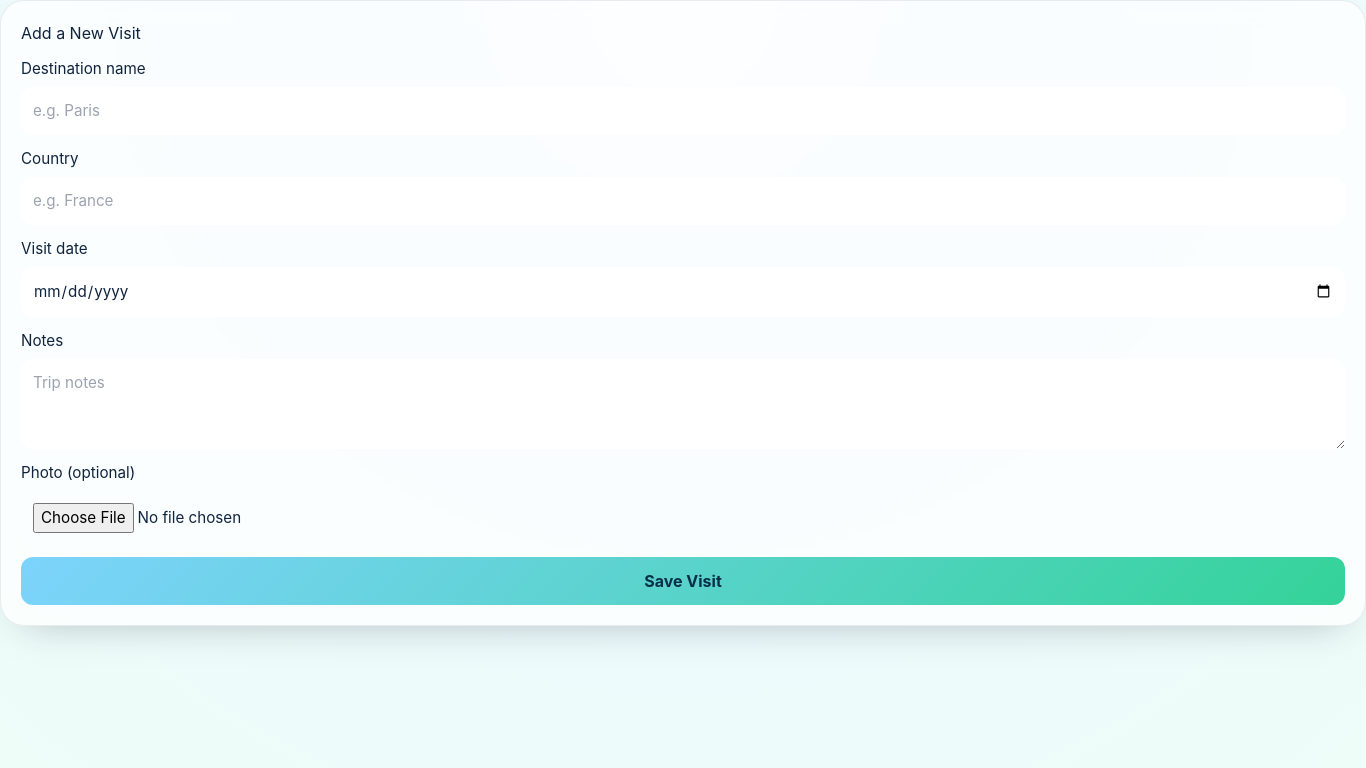
Scenario: AddVisitForm › announces required field validation without submitting
This screenshot has width=1366, height=768.
Click the button "Save Visit".
click(683, 581)  # box 21,557 -> 1345,605
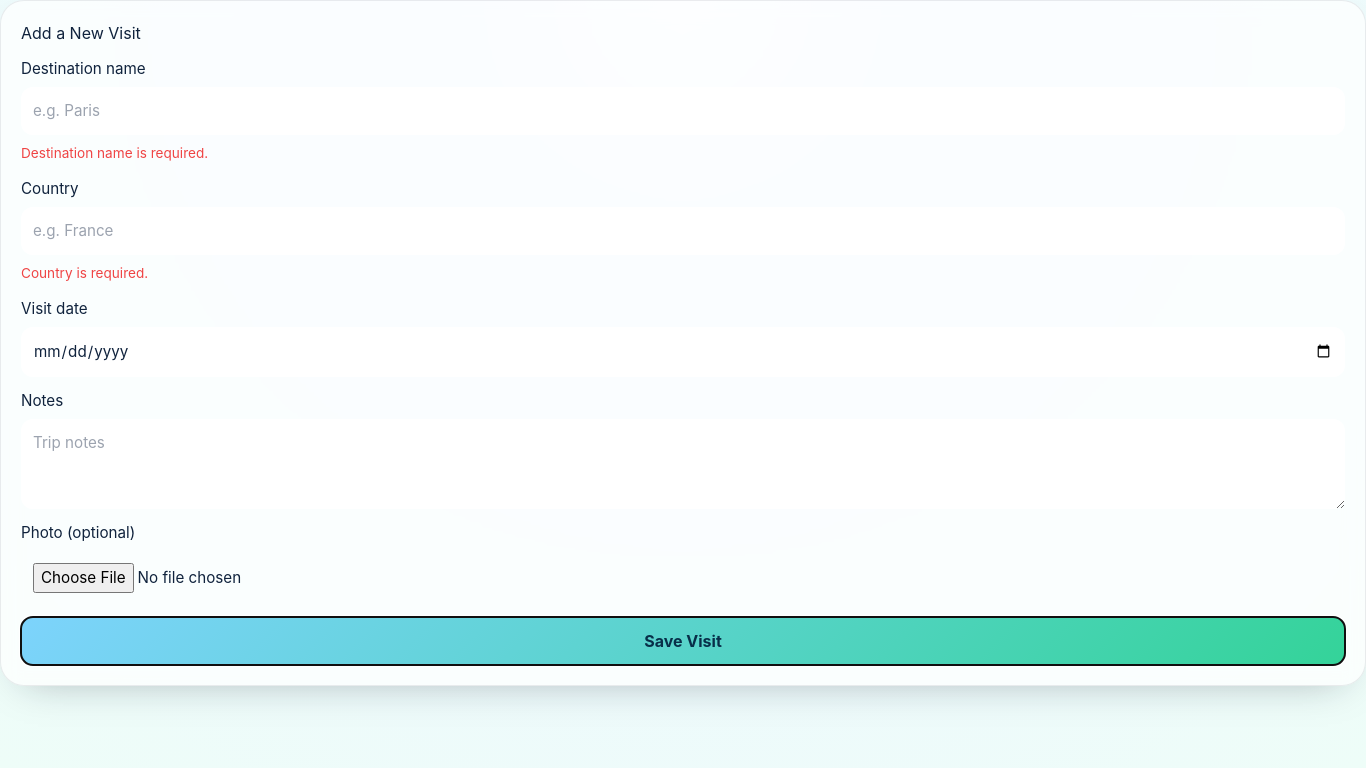
Now the text "Destination name is required." is shown, box 21,145 -> 208,161
Now the text "Country is required." is shown, box 21,265 -> 148,281
